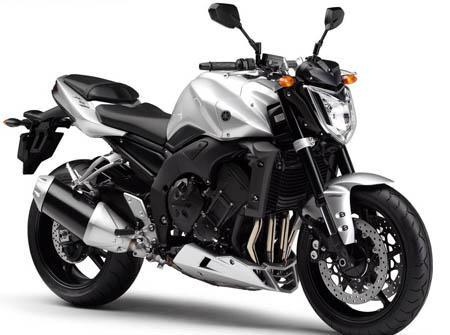motor: (22, 18, 434, 335)
